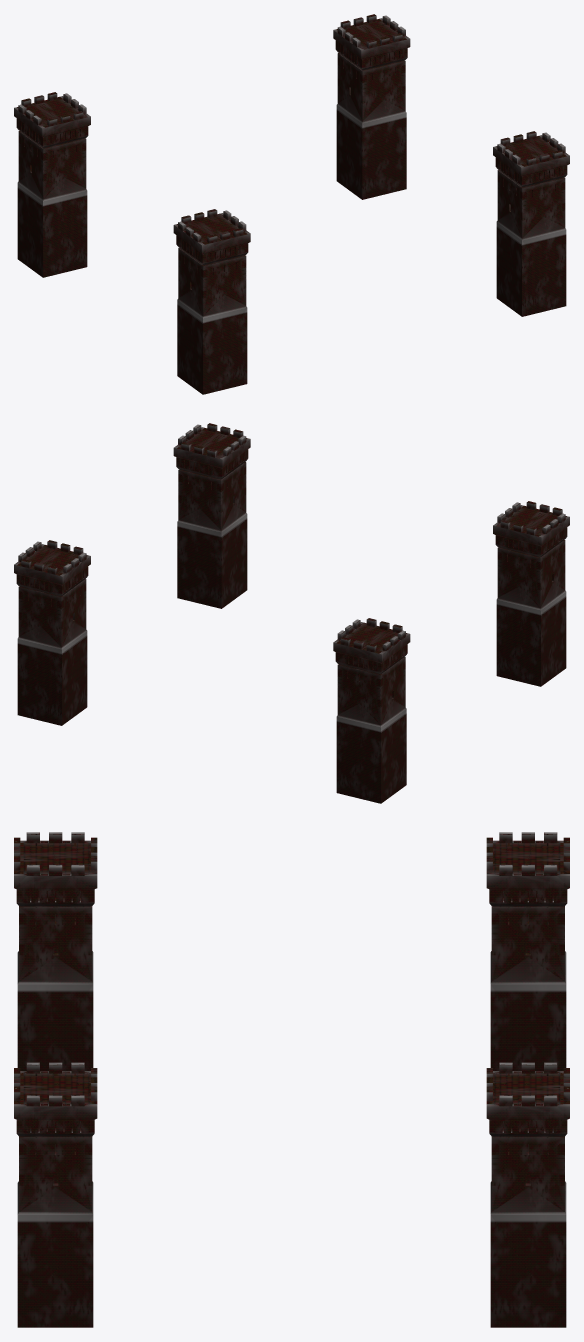
File: SantaCastleCorners.fbx
3 views of the same model, one above another, from view 1: azimuth 30°, elevation 25°; view 2: azimuth 150°, elevation 25°; view 3: azimuth 270°, elevation 25° (orthographic). The views are drawn at different scales.
Parts seen in each view (by area): view 1: Cube; view 2: Cube; view 3: Cube.
Boxes of the visible parts, left/top/right/bottom form: Cube: left=14, top=14, right=569, bottom=394; Cube: left=14, top=423, right=569, bottom=803; Cube: left=14, top=832, right=569, bottom=1327.
Size of the model in its own units: 11982 by 4874 by 10602.
Materials: 1 (1 with a texture image).
